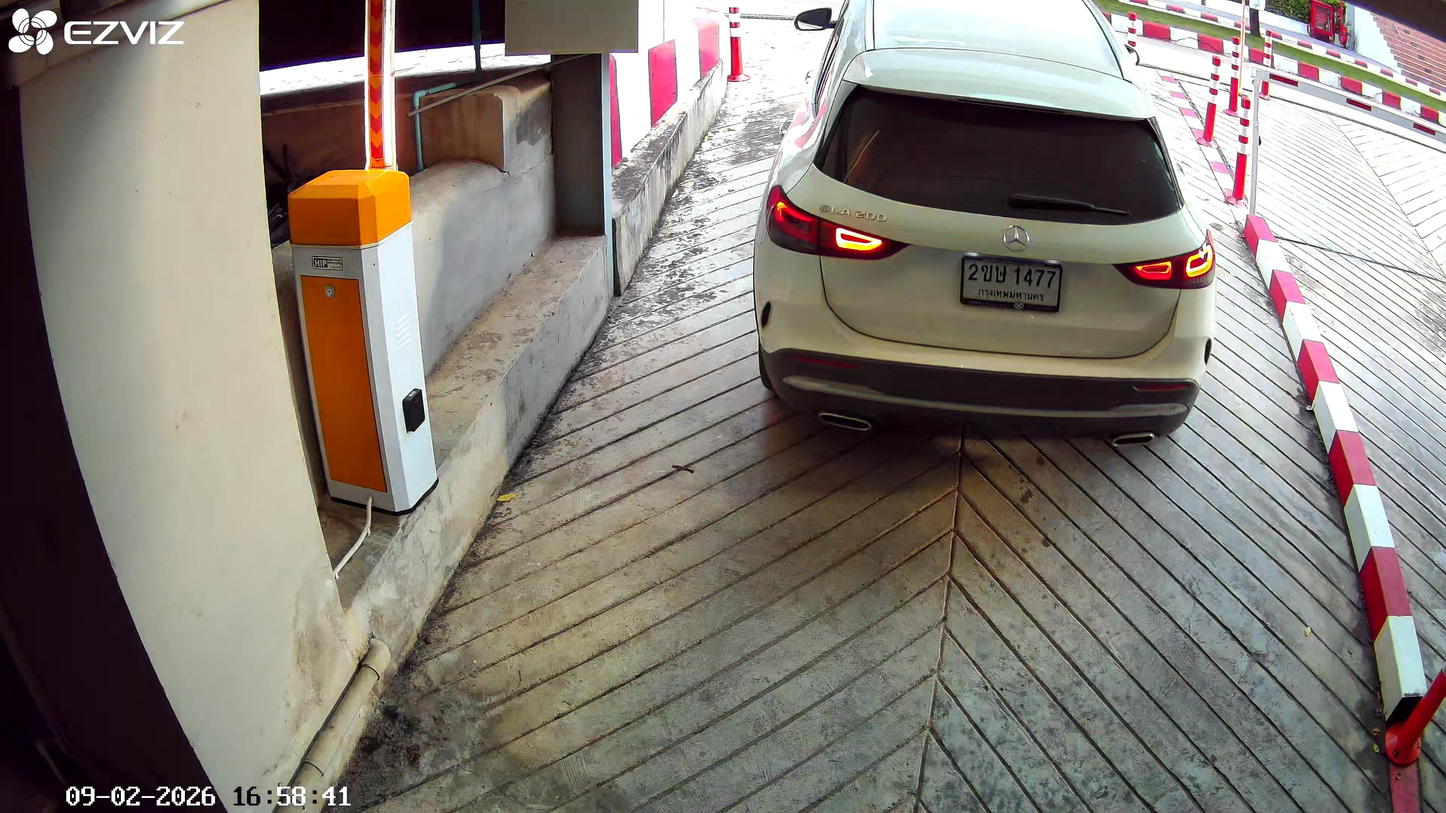car: (749, 2, 1218, 446)
license-plate: (956, 250, 1064, 314)
